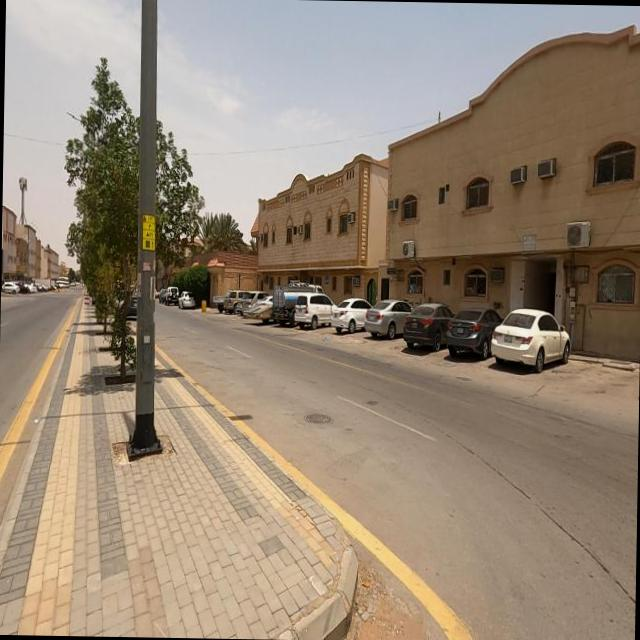debris: (16, 389, 52, 446), (310, 312, 341, 363)
